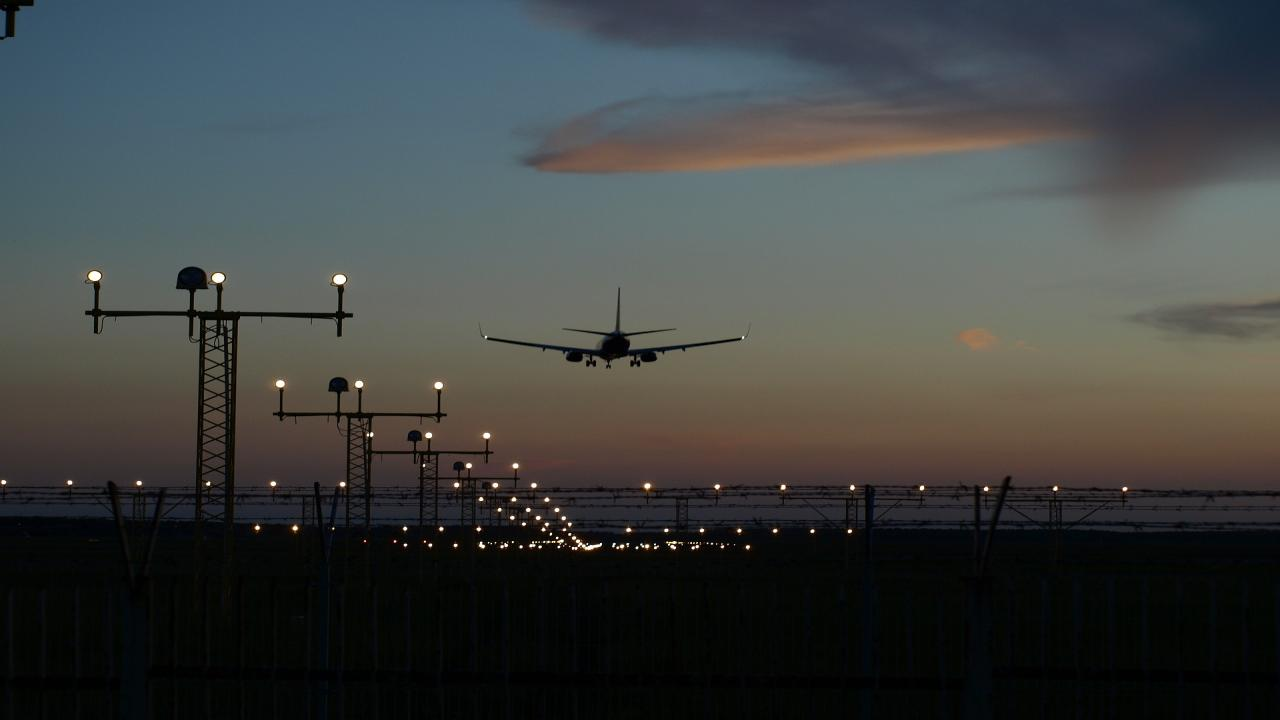Airplane: (468, 273, 758, 382)
